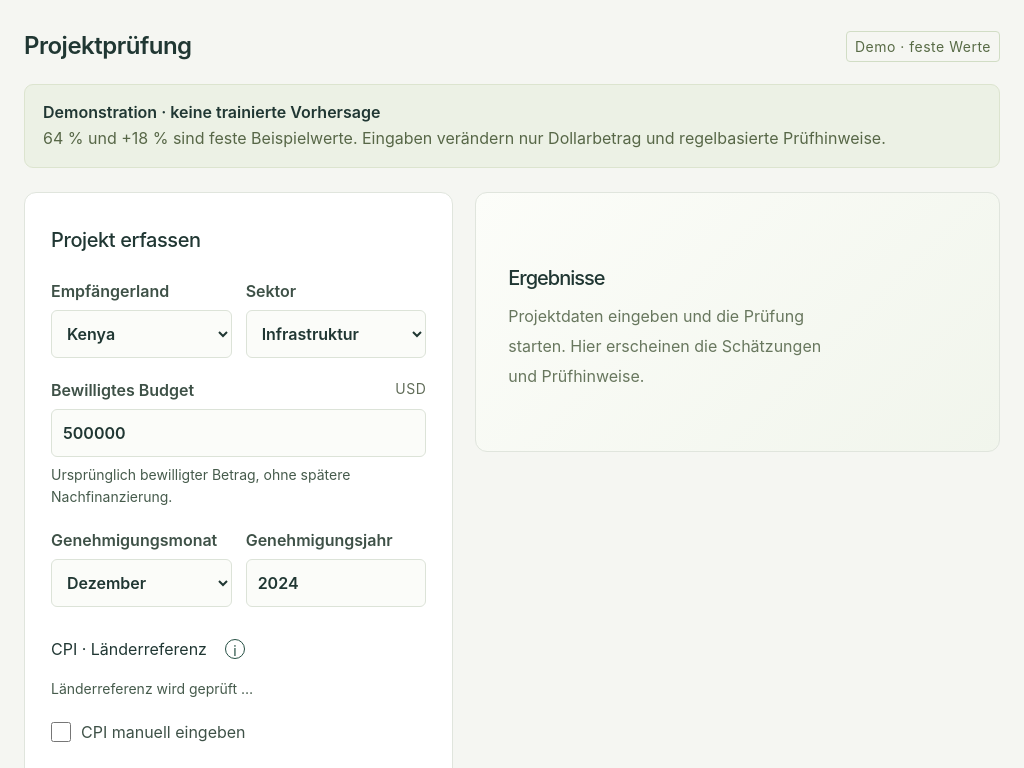
Scenario: announces safe CPI reset after changing Empfängerland
Click the checkbox labelled "CPI manuell eingeben": (61, 732) [51,722,71,742]
(page scrolled)
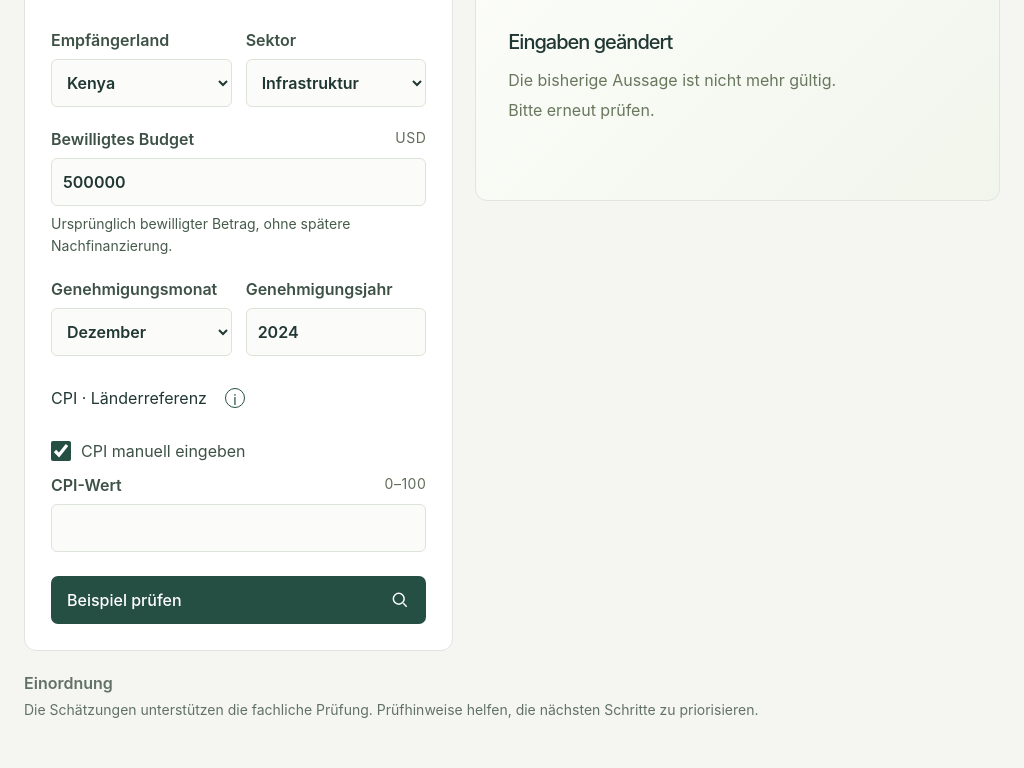
In the number field labelled "CPI-Wert 0–100": (239, 528) [51,504,426,552], type "31"
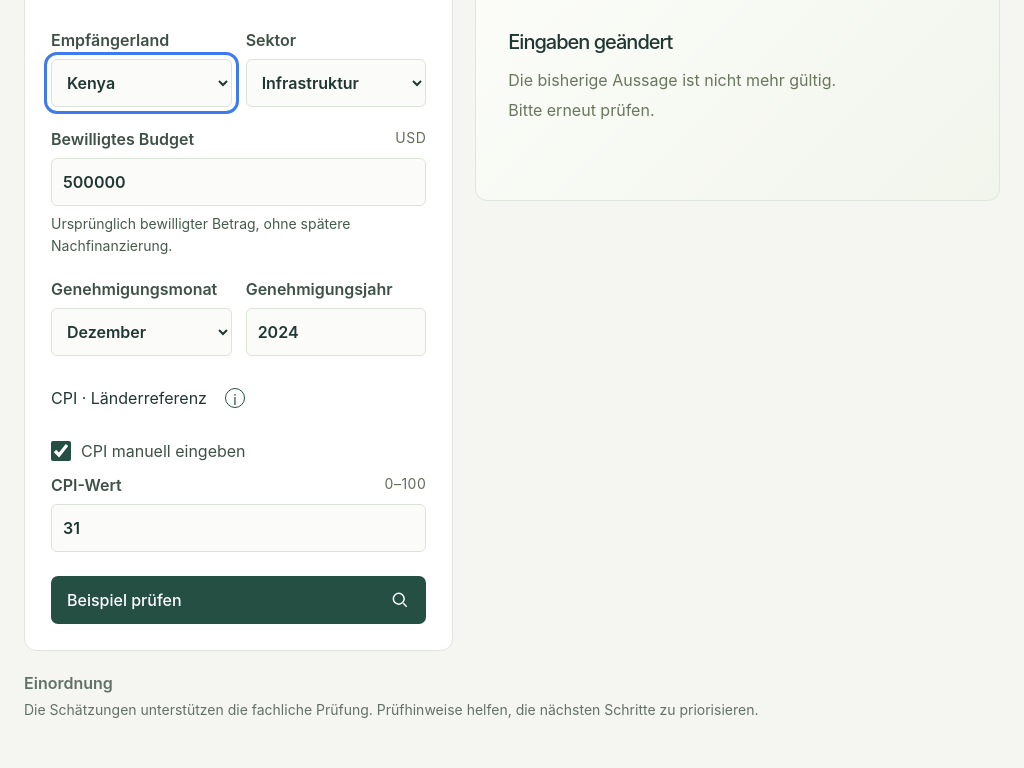
Select "Germany" in the dropdown labelled "Empfängerland": (141, 83) [51,59,232,107]
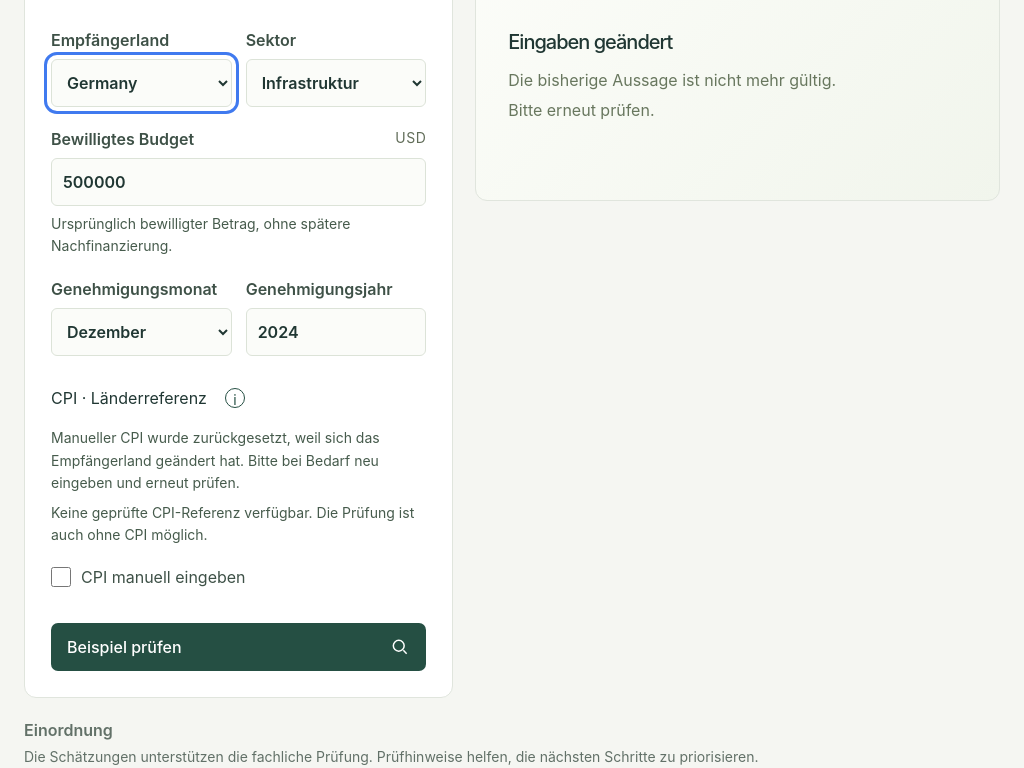
Now the checkbox labelled "CPI manuell eingeben" is not checked, box [51,567,71,587]
Now the text "Manueller CPI wurde zurückgesetzt" shows "Empfängerland", box [51,429,380,491]
Now the label labelled "CPI-Wert" is gone
